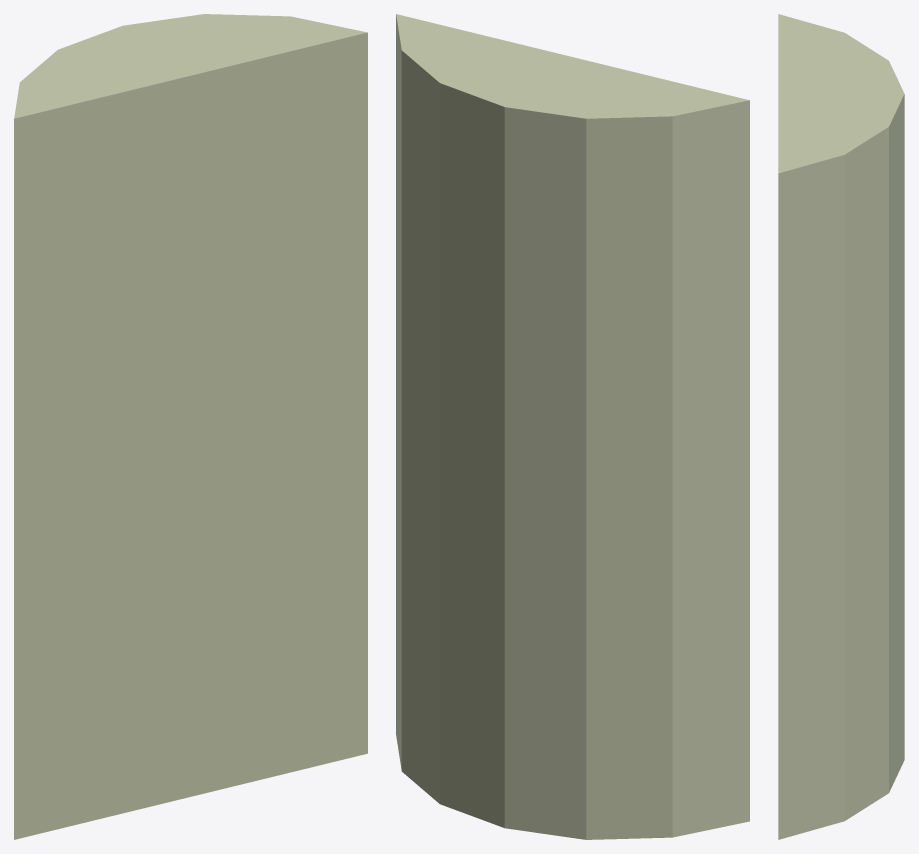
File: hydra_lv_recovery_bay_srf_1_collider.obj
The picture shows the model from 3 angles, left to right: view 1: azimuth 30°, elevation 25°; view 2: azimuth 150°, elevation 25°; view 3: azimuth 270°, elevation 25°; orthographic projection. The views are drawn at different scales.
Visible parts, largest first — view 1: collider; view 2: collider; view 3: collider.
Boxes of the visible parts, bbox=[...] form: collider: bbox=[14, 14, 367, 839]; collider: bbox=[396, 14, 749, 839]; collider: bbox=[778, 14, 904, 839].
Size of the model in its own units: 2.31 by 4.5 by 0.7716.
